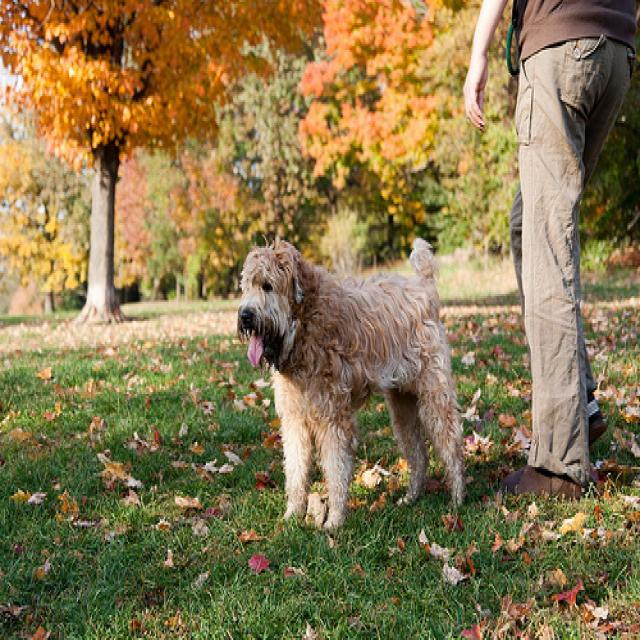dog-wheaten_terrier: (233, 223, 467, 540)
